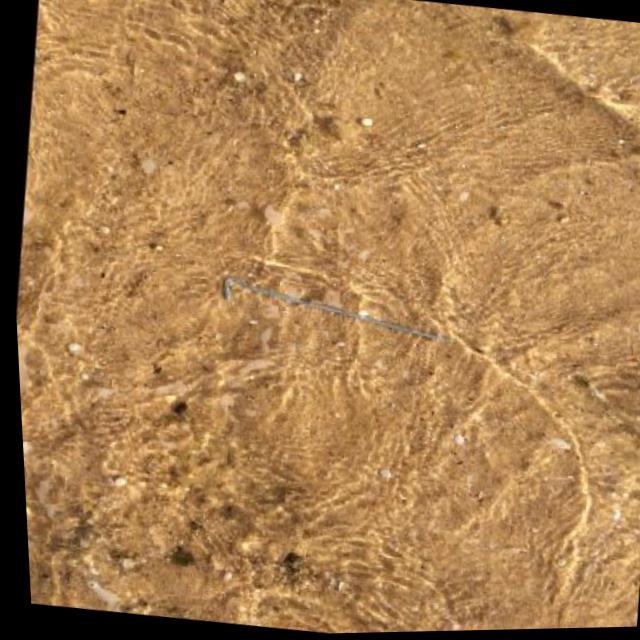metal: (215, 269, 458, 349)
